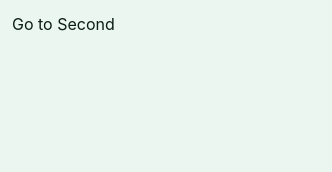
ScrollToTop › resets scroll position to (0, 0) on initial render and route transition
Click the link "Go to Second". click: (63, 24)
box: [12, 14, 115, 34]
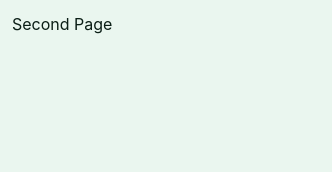
Expected: the text "Second Page" is shown, [12, 14, 112, 34]
